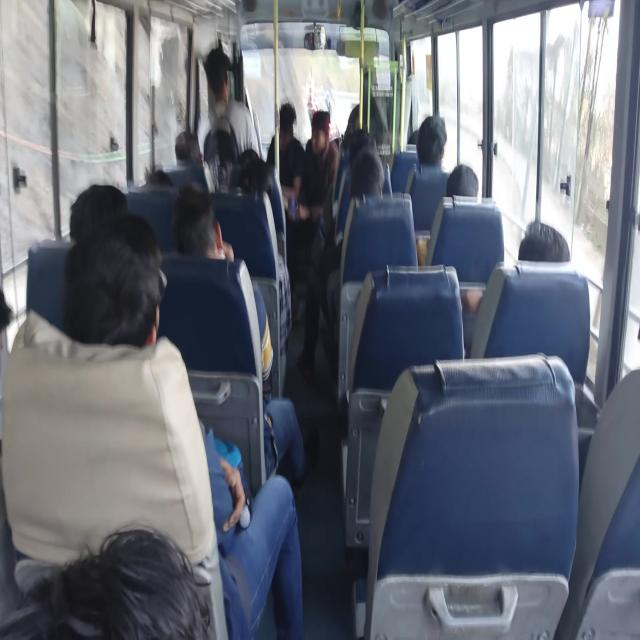person: (172, 182, 286, 437), (53, 526, 212, 638), (64, 239, 154, 343), (303, 107, 340, 228), (172, 182, 220, 260), (69, 183, 127, 241), (518, 220, 570, 263), (347, 100, 388, 153), (204, 128, 238, 190), (348, 146, 384, 202), (203, 53, 237, 110), (236, 152, 274, 198), (417, 115, 447, 167), (446, 163, 479, 198), (175, 130, 202, 166), (0, 285, 14, 335), (343, 105, 360, 144), (145, 168, 175, 188), (278, 102, 296, 131)
